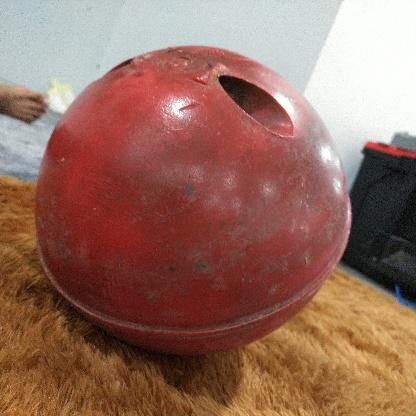red_buoy: (34, 44, 354, 360)
